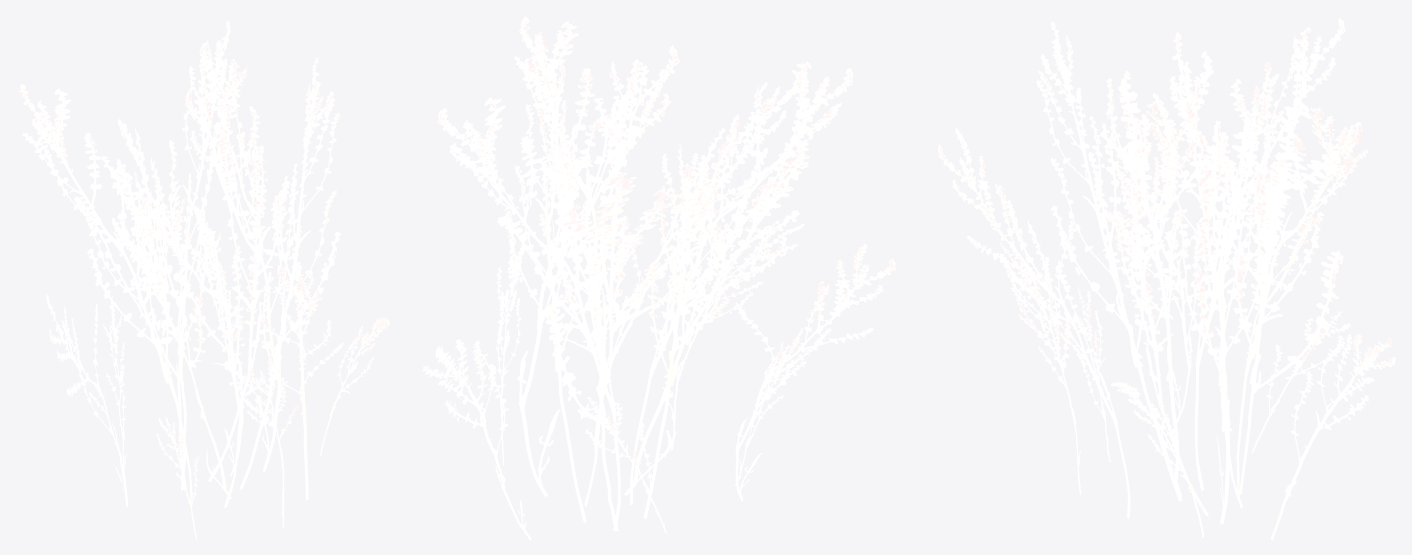
3 renders of one model, left to right at view 1: azimuth 30°, elevation 25°; view 2: azimuth 150°, elevation 25°; view 3: azimuth 270°, elevation 25°, orthographic. The views are drawn at different scales.
Parts seen in each view (by area): view 1: SM_HL_WildFlower_01_LOD0; view 2: SM_HL_WildFlower_01_LOD0; view 3: SM_HL_WildFlower_01_LOD0.
Boxes of the visible parts, x1,y1,x2,y2 form: SM_HL_WildFlower_01_LOD0: [19, 20, 390, 539]; SM_HL_WildFlower_01_LOD0: [422, 16, 896, 540]; SM_HL_WildFlower_01_LOD0: [937, 17, 1395, 540].
Size of the model in its own units: 0.7884 by 0.9441 by 0.8471.
Materials: 1 (1 with a texture image).
